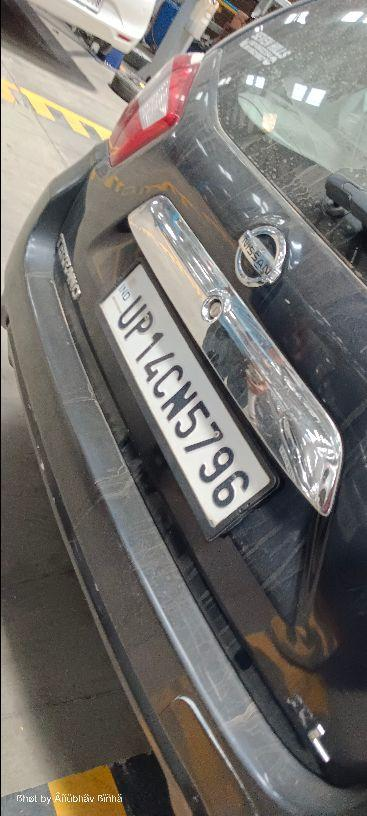license_plate: (125, 193, 343, 517), (96, 257, 280, 542), (55, 231, 82, 302)
